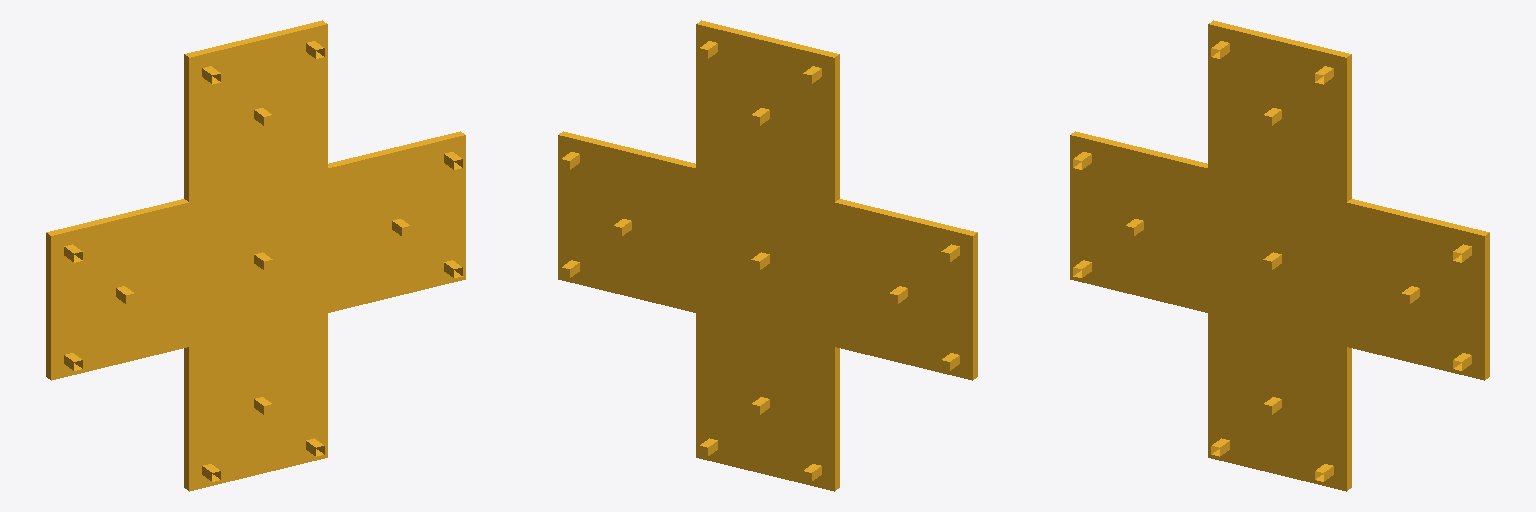
URDF robot description (crepe):
<?xml version="0.0" ?>
<robot name="crepe">
  <link name="link_5">
  <contact>
      <lateral_friction value="0.95"/>
      <rolling_friction value="0.001"/>
      <spinning_friction value="0.01"/>
  </contact>
    <inertial>
      <origin rpy="0 0 0" xyz="0 0 0"/>
       <mass value="0.1"/>
       <inertia ixx="0.001" ixy="0" ixz="0" iyy="0.001" iyz="0" izz="0.001"/>
    </inertial>
    <visual>
      <origin rpy="0 0 0" xyz="0 0 0"/>
      <geometry>
				<mesh filename="d_5.obj" scale="1 1 1"/>
      </geometry>
       <material name="yellowish">
        <color rgba="1 0.75 0.2 1"/>
      </material>
    </visual>
    <collision>
      <origin rpy="0 0 0" xyz="0 0 0"/>
      <geometry>
				<mesh filename="d_5collision.obj" scale="1 1 1"/>
      </geometry>
    </collision>
  </link>

  <link
    name="link_4">
    <contact>
      <lateral_friction value="0.95"/>
      <rolling_friction value="0.001"/>
      <spinning_friction value="0.01"/>
    </contact>
    <inertial>
      <origin xyz="-0.04 0 0" rpy="0 0 0" />
       <mass value="0.1"/>
       <inertia ixx="0.001" ixy="0" ixz="0" iyy="0.001" iyz="0" izz="0.001"/>
    </inertial>
    <visual>
      <origin xyz="0.04 0 0" rpy="0 0 0" />
      <geometry>
				<mesh filename="d_4.obj" scale="1 1 1"/>
      </geometry>
       <material name="yellowish">
        <color rgba="1 0.75 0.2 1"/>
      </material>
    </visual>
    <collision>
      <origin xyz="0.04 0 0" rpy="0 0 0" />
      <geometry>
				<mesh filename="d_4collision.obj" scale="1 1 1"/>
      </geometry>
    </collision>
  </link>
  <joint
    name="joint_5_4"
    type="revolute">
    <origin xyz="-0.04 0 0" rpy="0 0 0" />
    <parent link="link_5" />
    <child link="link_4" />
    <dynamics damping="0.01" friction="0.5"/>
    <axis xyz="0 0 1" />
    <limit lower="-0.1" upper="0.1" velocity="2.0" effort="0.1" />
  </joint>
  <link
    name="link_6">
    <contact>
      <lateral_friction value="0.95"/>
      <rolling_friction value="0.001"/>
      <spinning_friction value="0.01"/>
    </contact>
    <inertial>
      <origin xyz="0.04 0 0" rpy="0 0 0" />
       <mass value="0.1"/>
       <inertia ixx="0.001" ixy="0" ixz="0" iyy="0.001" iyz="0" izz="0.001"/>
    </inertial>
    <visual>
      <origin xyz="-0.04 0 0" rpy="0 0 0" />
      <geometry>
				<mesh filename="d_6.obj" scale="1 1 1"/>
      </geometry>
       <material name="yellowish">
        <color rgba="1 0.75 0.2 1"/>
      </material>
    </visual>
    <collision>
      <origin xyz="-0.04 0 0" rpy="0 0 0" />
      <geometry>
				<mesh filename="d_6collision.obj" scale="1 1 1"/>
      </geometry>
    </collision>
  </link>
  <joint
    name="joint_5_6"
    type="revolute">
    <origin xyz="0.04 0 0" rpy="0 0 0" />
    <parent link="link_5" />
    <child link="link_6" />
    <dynamics damping="0.01" friction="0.5"/>
    <axis xyz="0 0 1" />
    <limit lower="-0.1" upper="0.1" velocity="2.0" effort="0.1" />
  </joint>


  <link
    name="link_2">
    <contact>
      <lateral_friction value="0.95"/>
      <rolling_friction value="0.001"/>
      <spinning_friction value="0.01"/>
    </contact>
    <inertial>
      <origin xyz="0 0 -0.04" rpy="0 0 0" />
       <mass value="0.1"/>
       <inertia ixx="0.001" ixy="0" ixz="0" iyy="0.001" iyz="0" izz="0.001"/>
    </inertial>
    <visual>
      <origin xyz="0 0 0.04" rpy="0 0 0" />
      <geometry>
				<mesh filename="d_2.obj" scale="1 1 1"/>
      </geometry>
       <material name="yellowish">
        <color rgba="1 0.75 0.2 1"/>
      </material>
    </visual>
    <collision>
      <origin xyz="0 0 0.04" rpy="0 0 0" />
      <geometry>
				<mesh filename="d_2collision.obj" scale="1 1 1"/>
      </geometry>
    </collision>
  </link>
  <joint
    name="joint_5_2"
    type="revolute">
    <origin xyz="0 0 -0.04" rpy="0 0 0" />
    <parent link="link_5" />
    <child link="link_2" />
    <dynamics damping="0.01" friction="0.5"/>
    <axis xyz="1 0 0" />
    <limit lower="-3" upper="3" velocity="2.0" effort="0.1" />
  </joint>


  <link
    name="link_8">
    <contact>
      <lateral_friction value="0.95"/>
      <rolling_friction value="0.001"/>
      <spinning_friction value="0.01"/>
    </contact>
    <inertial>
      <origin xyz="0 0 0.04" rpy="0 0 0" />
       <mass value="0.1"/>
       <inertia ixx="0.001" ixy="0" ixz="0" iyy="0.001" iyz="0" izz="0.001"/>
    </inertial>
    <visual>
      <origin xyz="0 0 -0.04" rpy="0 0 0" />
      <geometry>
				<mesh filename="d_8.obj" scale="1 1 1"/>
      </geometry>
       <material name="yellowish">
        <color rgba="1 0.75 0.2 1"/>
      </material>
    </visual>
    <collision>
      <origin xyz="0 0 -0.04" rpy="0 0 0" />
      <geometry>
				<mesh filename="d_8collision.obj" scale="1 1 1"/>
      </geometry>
    </collision>
  </link>
  <joint
    name="joint_5_8"
    type="revolute">
    <origin xyz="0 0 0.04" rpy="0 0 0" />
    <parent link="link_5" />
    <child link="link_8" />
    <dynamics damping="0.01" friction="0.5"/>
    <axis xyz="1 0 0" />
    <limit lower="-3" upper="3" velocity="2.0" effort="0.1" />
  </joint>


</robot>

--- Facts derived from the render (not from the file) ---
Views: 3 orthographic renders of the robot side by side, from view 1: azimuth 30°, elevation 25°; view 2: azimuth 150°, elevation 25°; view 3: azimuth 330°, elevation 25°.
Robot: crepe — 5 links, 4 joints (4 revolute); root link link_5; default pose: all joints at 0.
Links seen in each view (by area): view 1: link_8, link_4, link_2, link_6, link_5; view 2: link_8, link_4, link_2, link_6, link_5; view 3: link_8, link_6, link_2, link_4, link_5.
Link boxes in pixels (bbox=[...]): link_8: bbox=[184, 20, 327, 201]; link_4: bbox=[46, 199, 188, 380]; link_2: bbox=[184, 313, 327, 491]; link_6: bbox=[328, 131, 465, 312]; link_5: bbox=[189, 169, 327, 346]; link_8: bbox=[696, 20, 839, 201]; link_4: bbox=[835, 199, 977, 380]; link_2: bbox=[696, 313, 839, 491]; link_6: bbox=[558, 131, 695, 312]; link_5: bbox=[696, 169, 834, 346]; link_8: bbox=[1208, 20, 1351, 201]; link_6: bbox=[1347, 199, 1489, 380]; link_2: bbox=[1208, 313, 1351, 491]; link_4: bbox=[1070, 131, 1207, 312]; link_5: bbox=[1208, 169, 1346, 346].
Bounding box of the posed robot: 0.24 × 0.025 × 0.24 m (x, y, z).
Meshes: 5 distinct files referenced, 5 mesh visuals loaded (5 OBJ).
